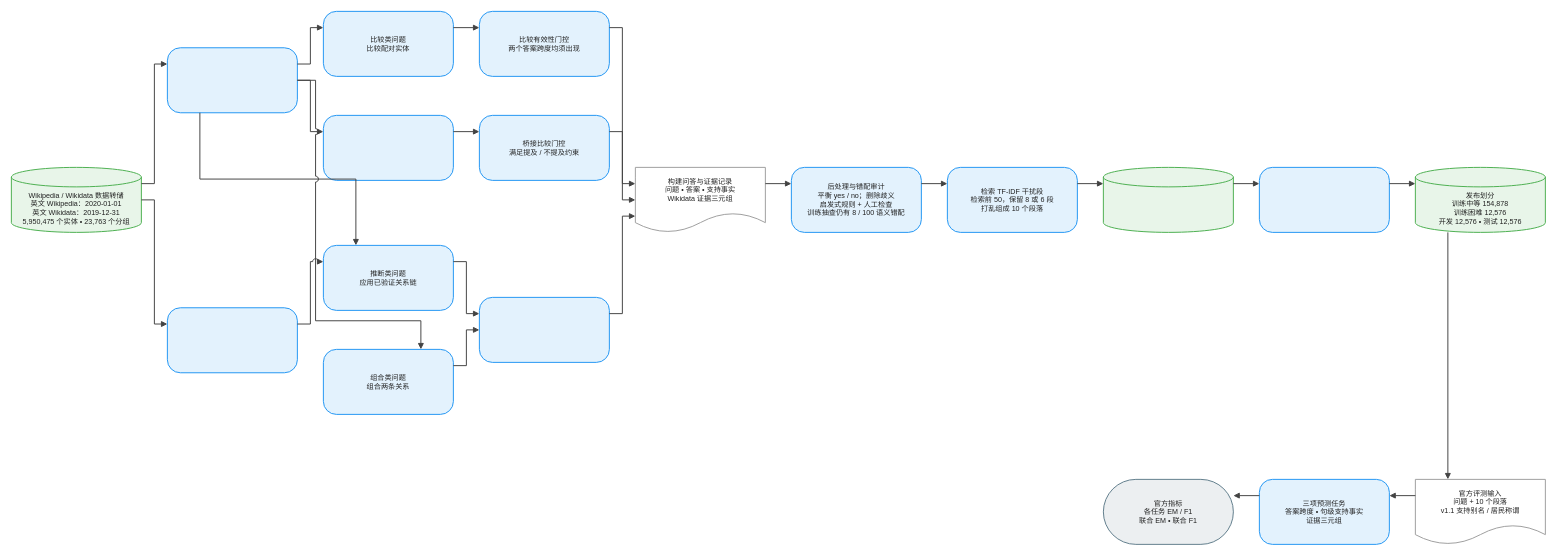
This 1557x556 diagram has some shape labels left out. The shapes that lost their labels are listed below. From the top down, each one's box as (x1, y1, x2, y2) in pixels, then its label:
(167, 47, 298, 113): 创建问题模板 17,456 道 HotpotQA 比较题 spaCy NER + 人工模板 前 50 类热门实体 删除单跳 / 依赖上下文的形式
(323, 115, 454, 181): 桥接比较类问题 桥接实体 + 比较
(1103, 167, 1234, 233): 2WikiMultihopQA 192,606 道问题 四类问题
(1259, 167, 1390, 233): 按难度划分 单跳 BERT • 五折分析 交叉验证平均 F1：86.7%
(167, 307, 298, 373): 挖掘逻辑规则 AMIE 候选规则 人工验证 28 条规则
(479, 297, 610, 363): 两跳跨度门控 p 提及桥接实体；p1 含答案 p 不得含答案；p1 不得含起始实体
